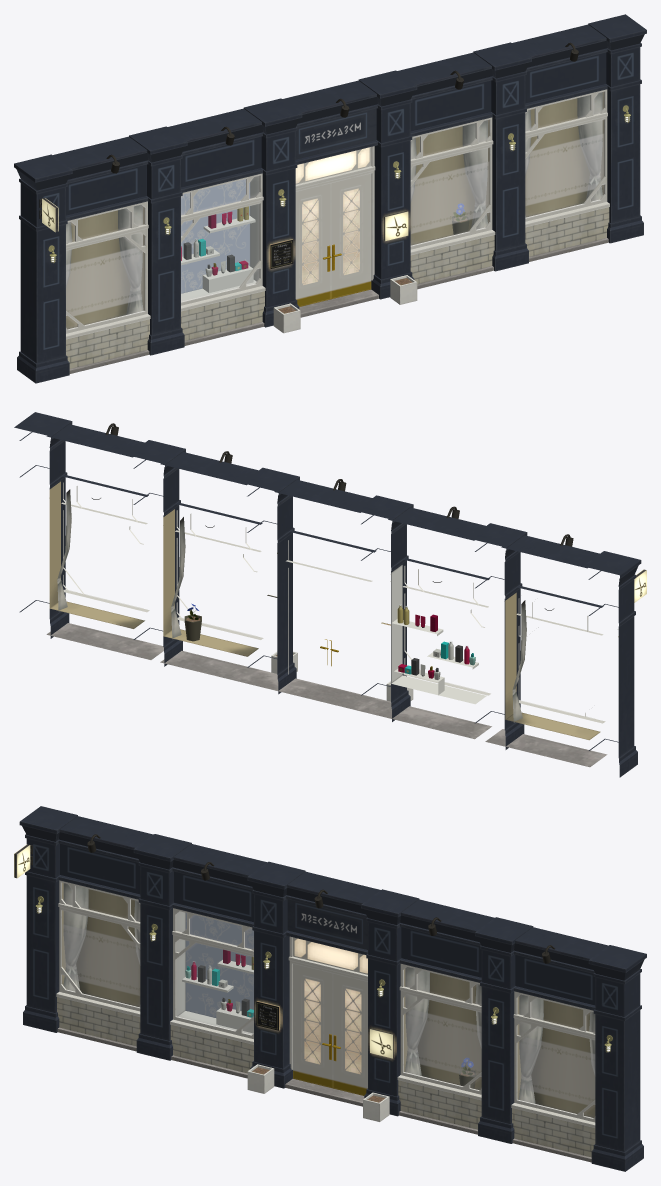
The model's file is t1_b_salon_a.glb.
3 renders of one model, top to bottom at view 1: azimuth 30°, elevation 25°; view 2: azimuth 150°, elevation 25°; view 3: azimuth 330°, elevation 25°, orthographic.
Visible parts, largest first — view 1: nomerge_body; view 2: nomerge_body; view 3: nomerge_body.
Boxes of the visible parts, x1=… form: nomerge_body: x1=14, y1=14, x2=646, y2=383; nomerge_body: x1=14, y1=412, x2=646, y2=777; nomerge_body: x1=14, y1=806, x2=646, y2=1171.
Bounding box in the file's own units: 13.99 × 4.62 × 1.35.
Materials: 4 (4 with a texture image).
